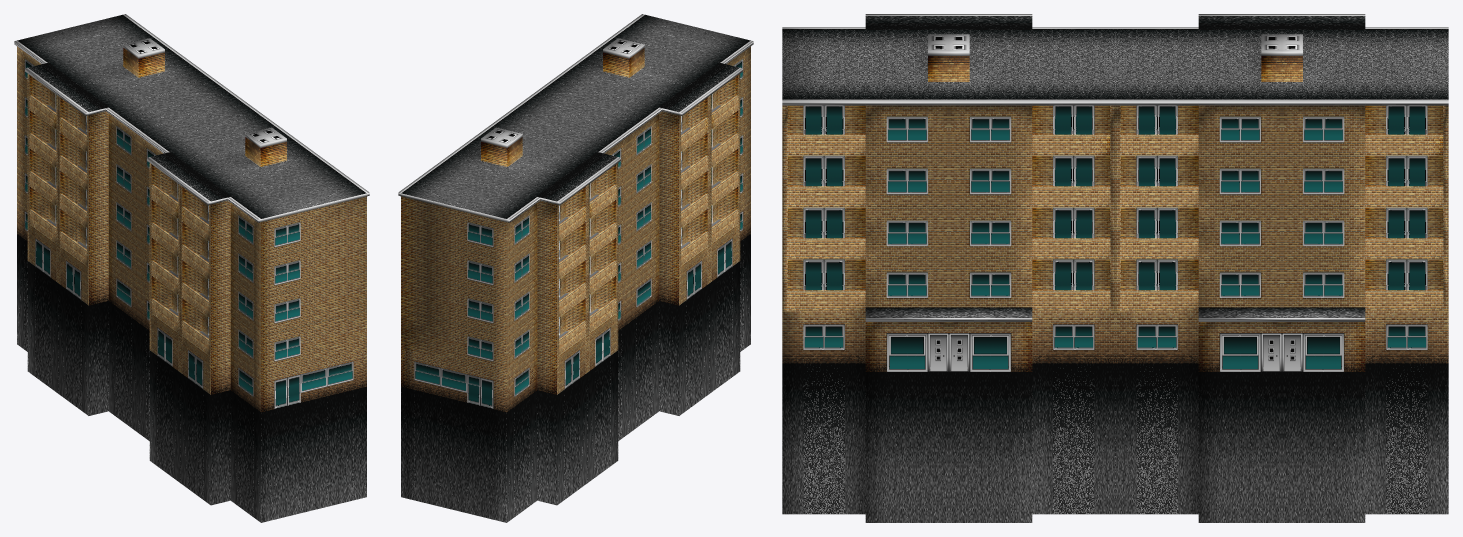
File: apartement_mod1_2b.fbx
3 views of the same model, side by side, from view 1: azimuth 30°, elevation 25°; view 2: azimuth 150°, elevation 25°; view 3: azimuth 270°, elevation 25° (orthographic). The views are drawn at different scales.
Visible parts, largest first — view 1: apartement_mod1_2b; view 2: apartement_mod1_2b; view 3: apartement_mod1_2b.
Boxes of the visible parts, <box> form: apartement_mod1_2b: <box>14,14,369,522</box>; apartement_mod1_2b: <box>398,14,753,522</box>; apartement_mod1_2b: <box>782,14,1448,522</box>.
Bounding box in the file's own units: 1231 × 2652 × 3600.
